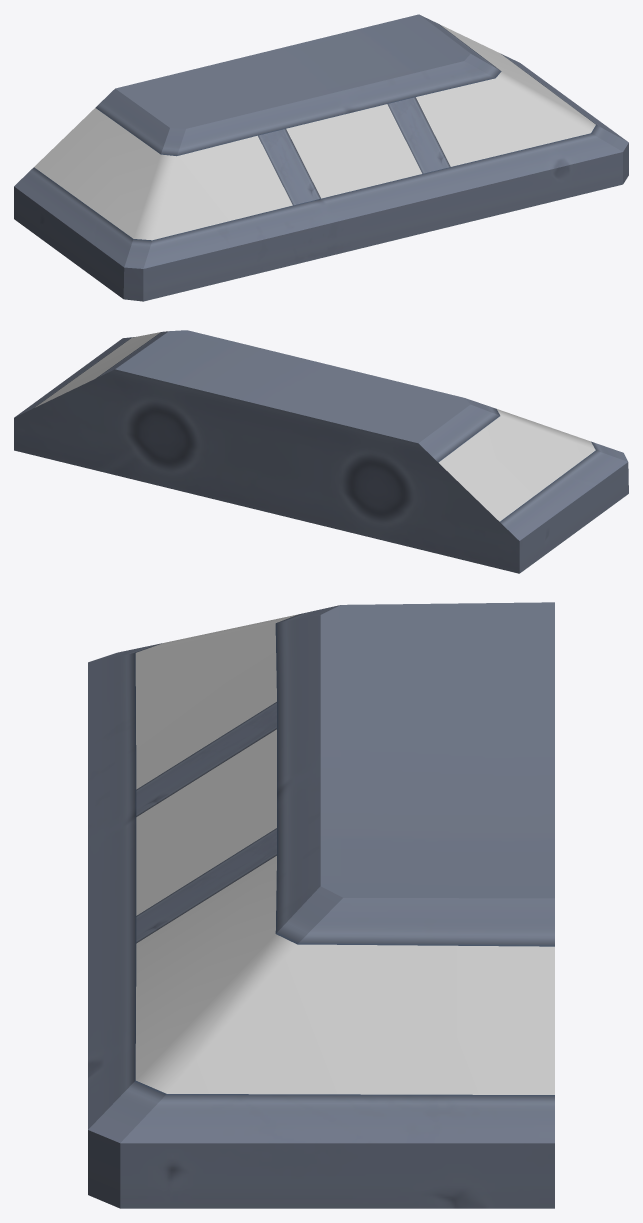
Rendered from obj_spaceship_frame05.fbx.
3 views of the same model, one above another, from view 1: azimuth 30°, elevation 25°; view 2: azimuth 150°, elevation 25°; view 3: azimuth 270°, elevation 25° (orthographic). The views are drawn at different scales.
Visible parts, largest first — view 1: polySurface257; view 2: polySurface257; view 3: polySurface257.
Boxes of the visible parts, bbox=[...] form: polySurface257: bbox=[14, 14, 628, 301]; polySurface257: bbox=[14, 330, 628, 573]; polySurface257: bbox=[88, 602, 554, 1208].
Size of the model in its own units: 5 by 1 by 2.
